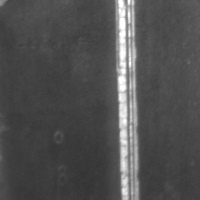scratches: (113, 1, 146, 200)
